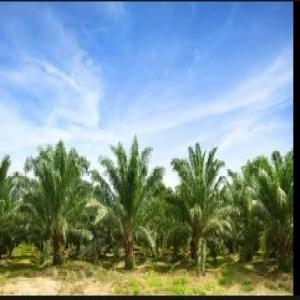palm tree: (90, 132, 166, 269), (17, 138, 92, 265), (169, 141, 231, 274), (0, 152, 19, 260)
